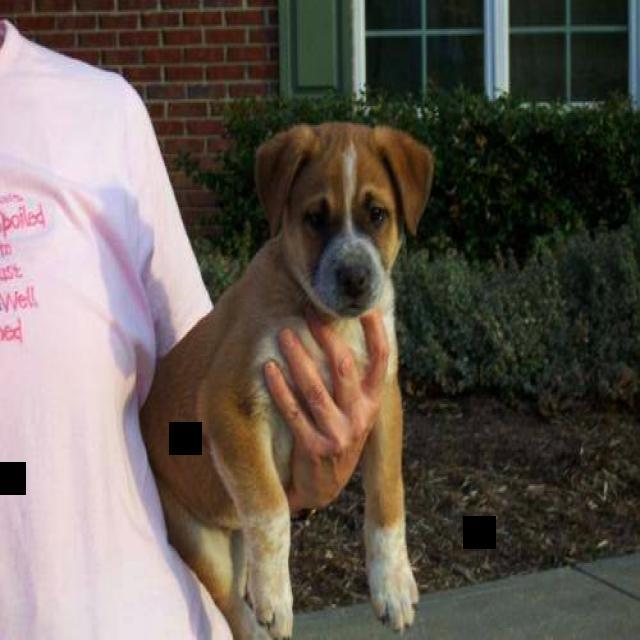non-dog: (0, 3, 393, 640)
puppy-dog: (139, 119, 436, 640)
